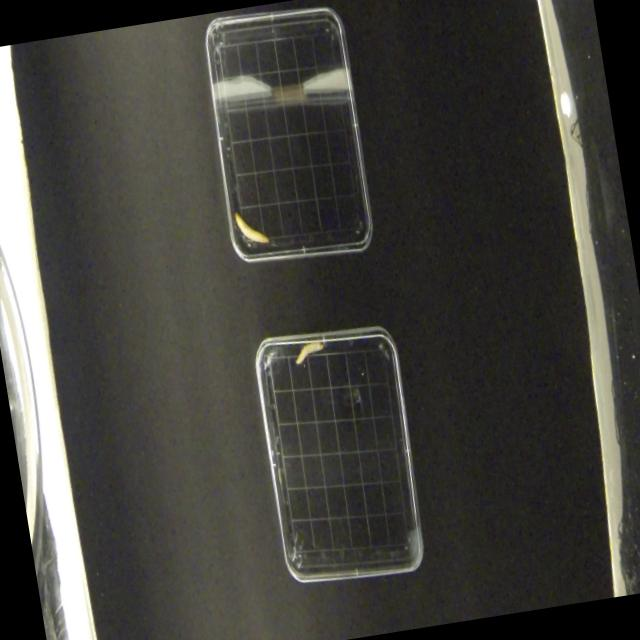larva: (233, 206, 270, 248), (292, 338, 326, 366)
